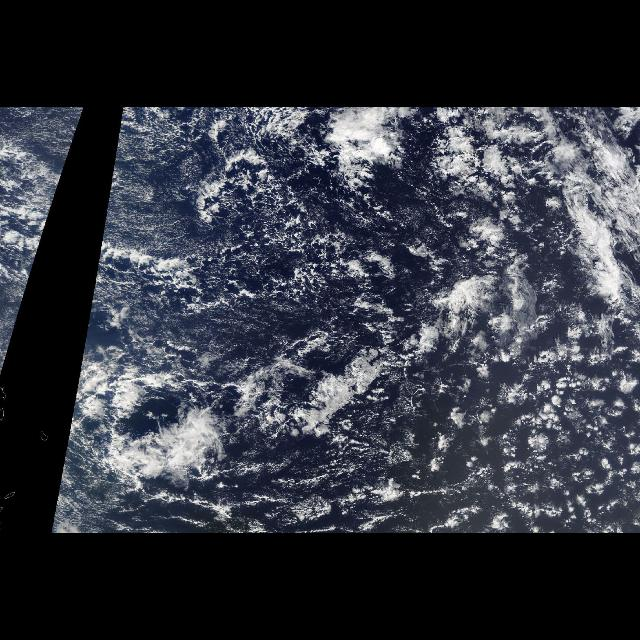Fish: (98, 118, 640, 490)
Flower: (405, 341, 639, 534)
Sugar: (78, 107, 255, 377), (1, 107, 85, 377)
